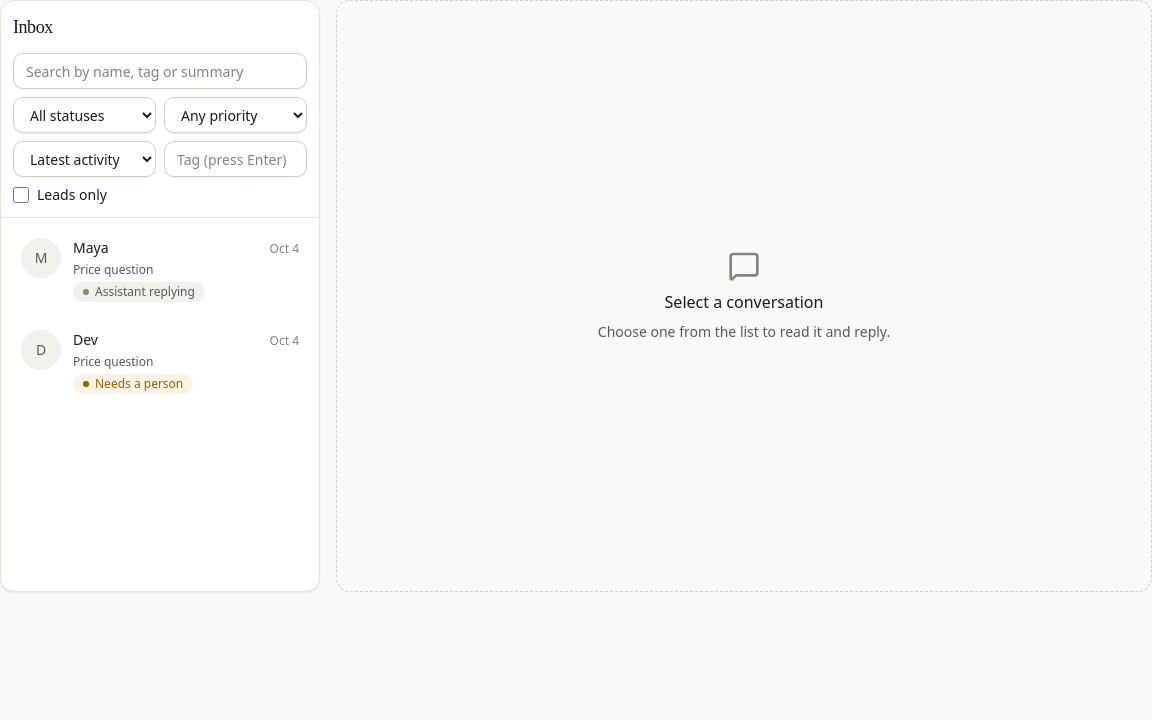
conversation list › filters the server applies › filters by status and shows only what the server returns
Select "Needs a person" in the dropdown named "Status" at (84, 115), box [13,97,156,133]
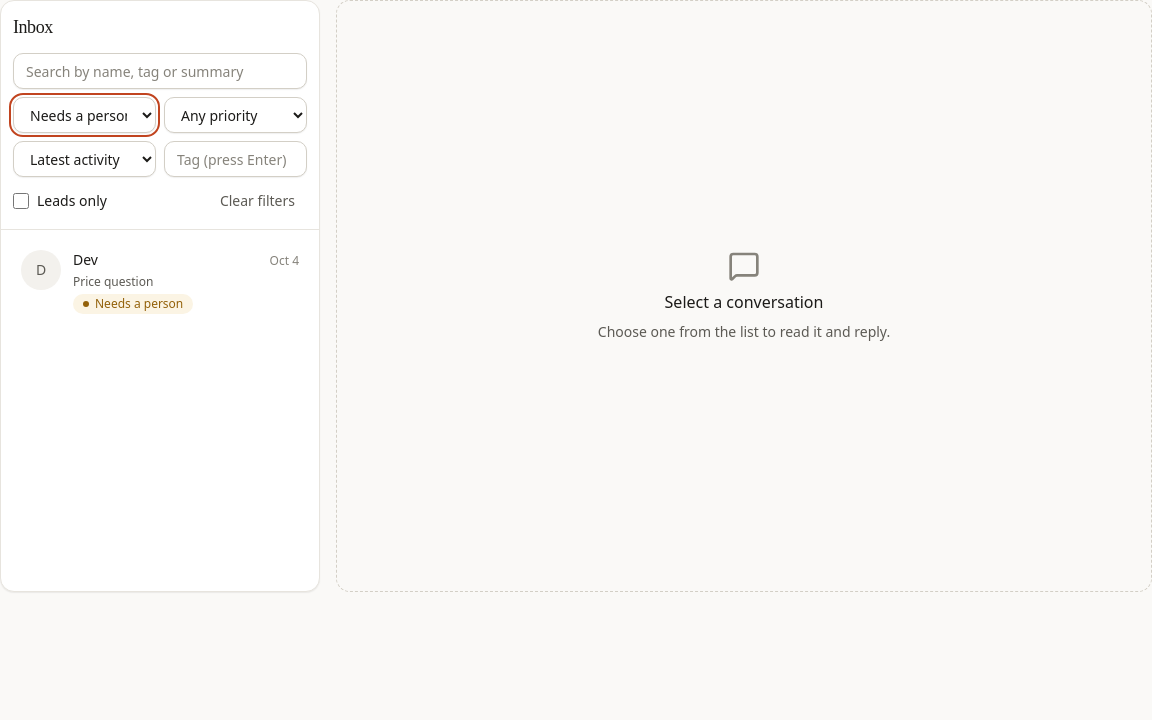
Expected: the text "Dev" is shown, [73,250,98,270]
Now the link "Maya" is gone
